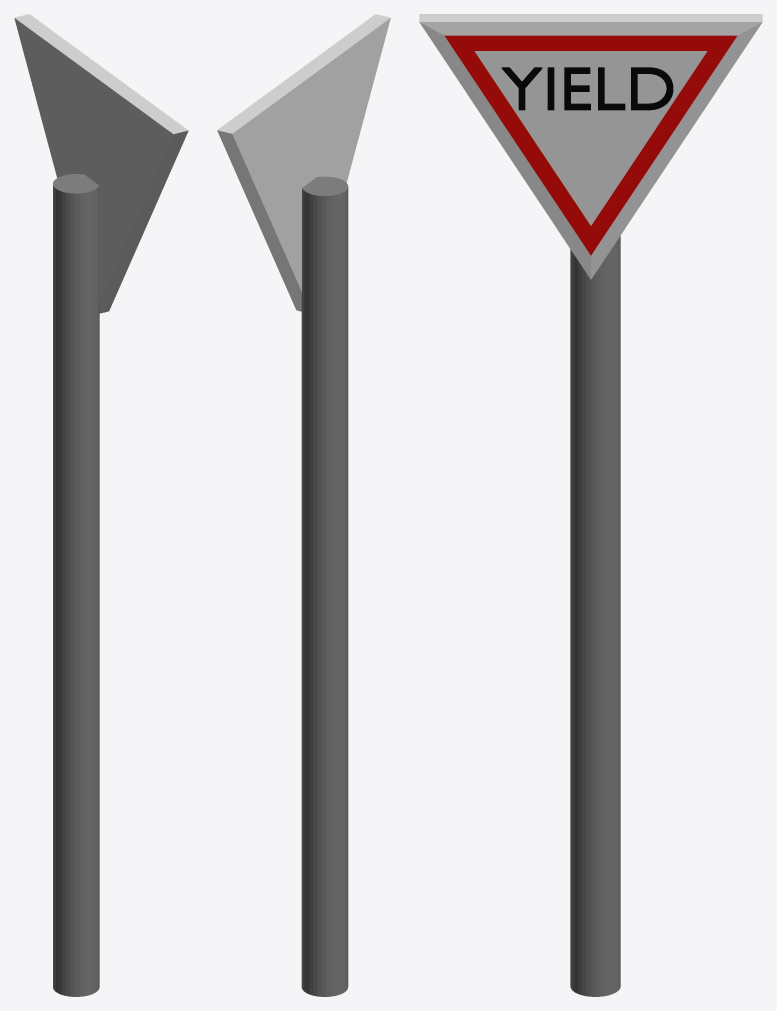
The model's file is yield.dae.
3 views of the same model, side by side, from view 1: azimuth 30°, elevation 25°; view 2: azimuth 150°, elevation 25°; view 3: azimuth 270°, elevation 25° (orthographic). The views are drawn at different scales.
Visible parts, largest first — view 1: Cylinder, Plane; view 2: Cylinder, Plane; view 3: Plane, Cylinder.
Boxes of the visible parts, x1=… form: Cylinder: x1=53, y1=174, x2=99, y2=996; Plane: x1=14, y1=14, x2=188, y2=313; Cylinder: x1=301, y1=176, x2=348, y2=996; Plane: x1=217, y1=14, x2=390, y2=311; Plane: x1=419, y1=14, x2=762, y2=279; Cylinder: x1=570, y1=236, x2=620, y2=996.
Size of the model in its own units: 0.4811 by 2.41 by 7.6.
